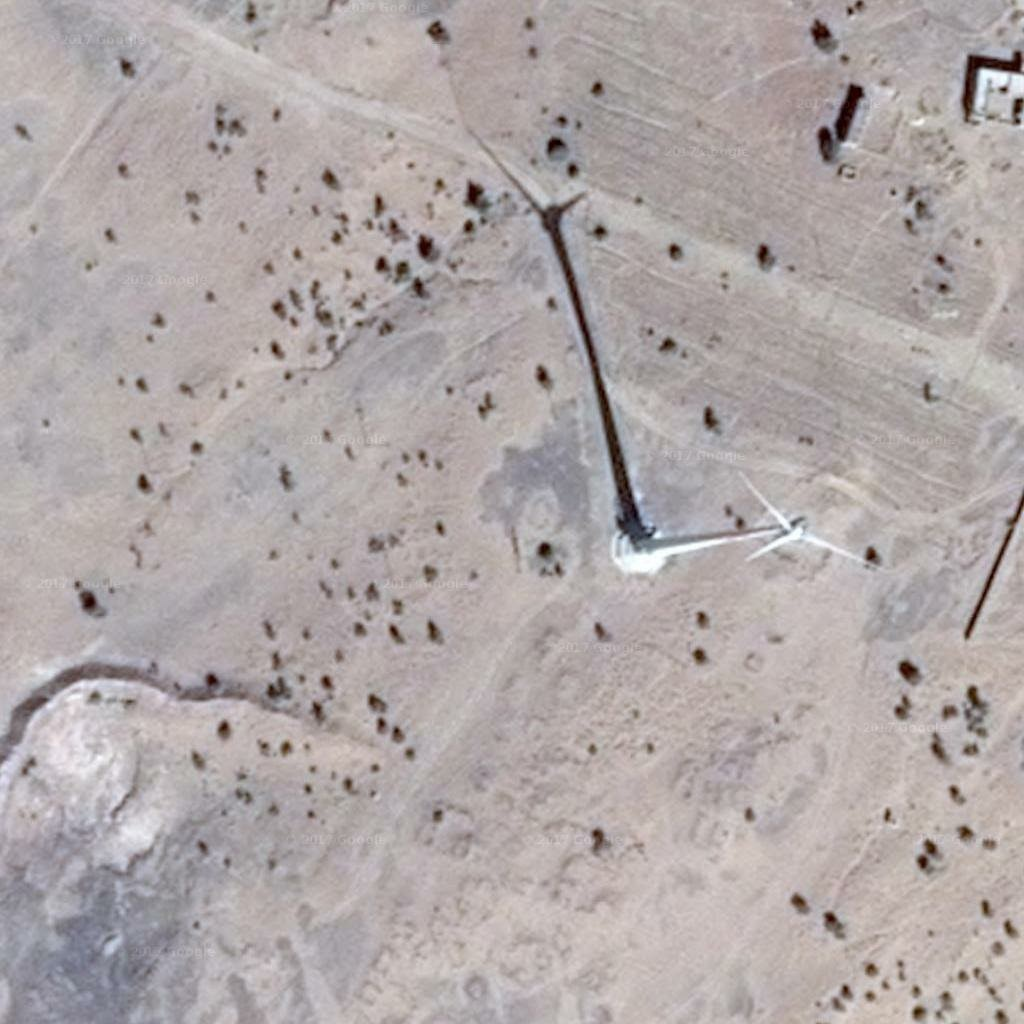Windmill: (473, 121, 657, 528)
